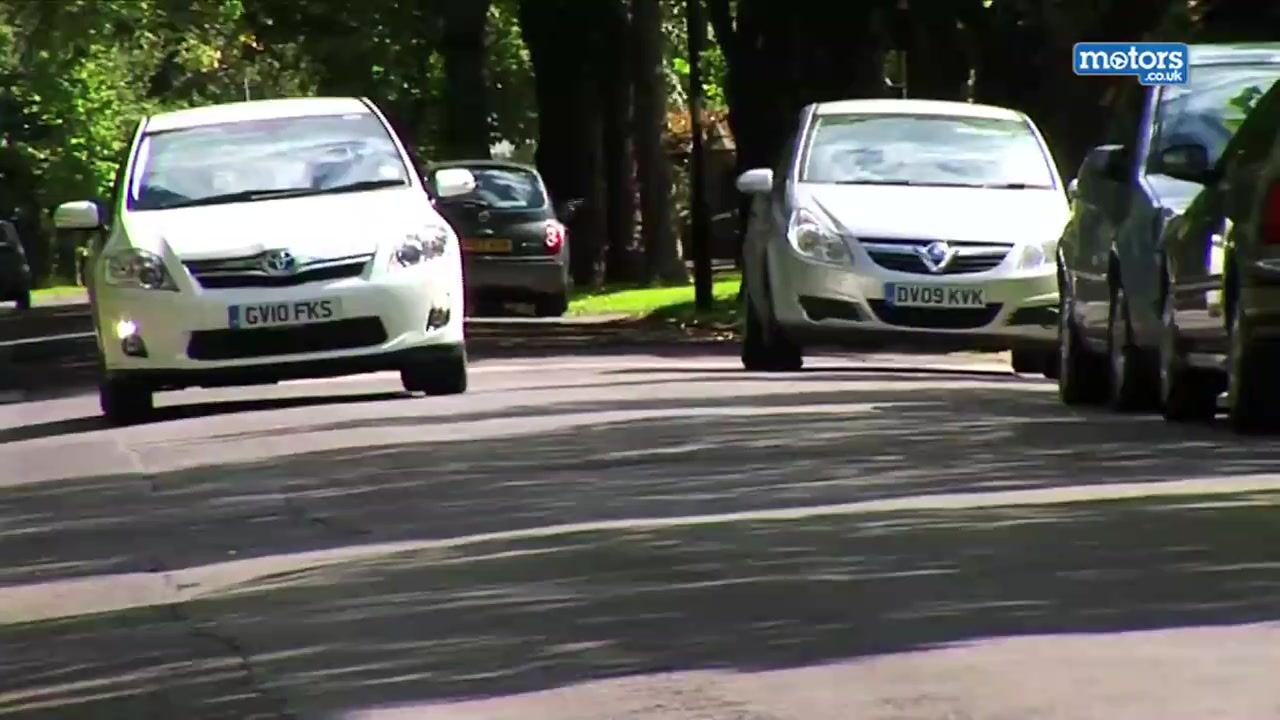car: (60, 95, 481, 425), (739, 99, 1082, 377), (1062, 41, 1280, 415), (1146, 77, 1280, 431), (417, 154, 572, 326), (1, 214, 32, 316)
